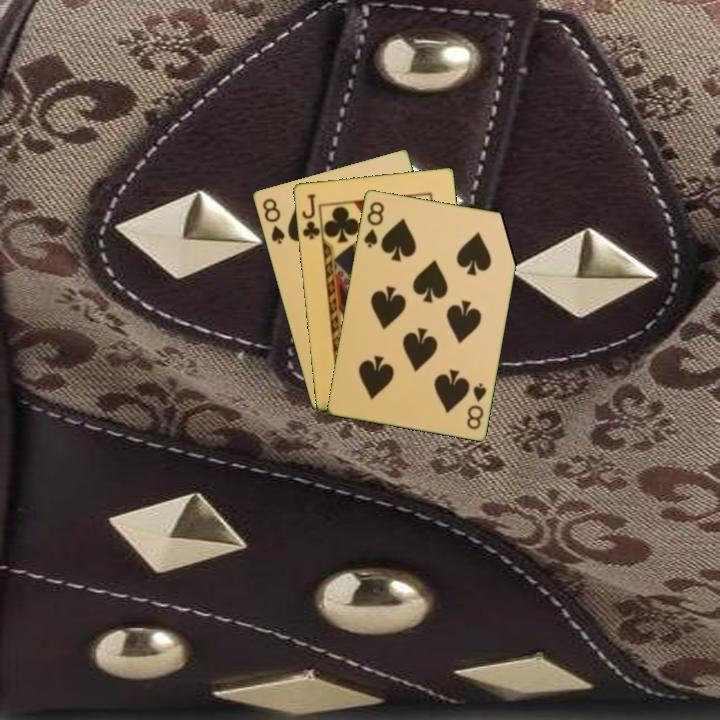8s: (259, 194, 287, 247), (360, 198, 387, 250), (463, 379, 489, 432)
Jc: (298, 190, 323, 242)
